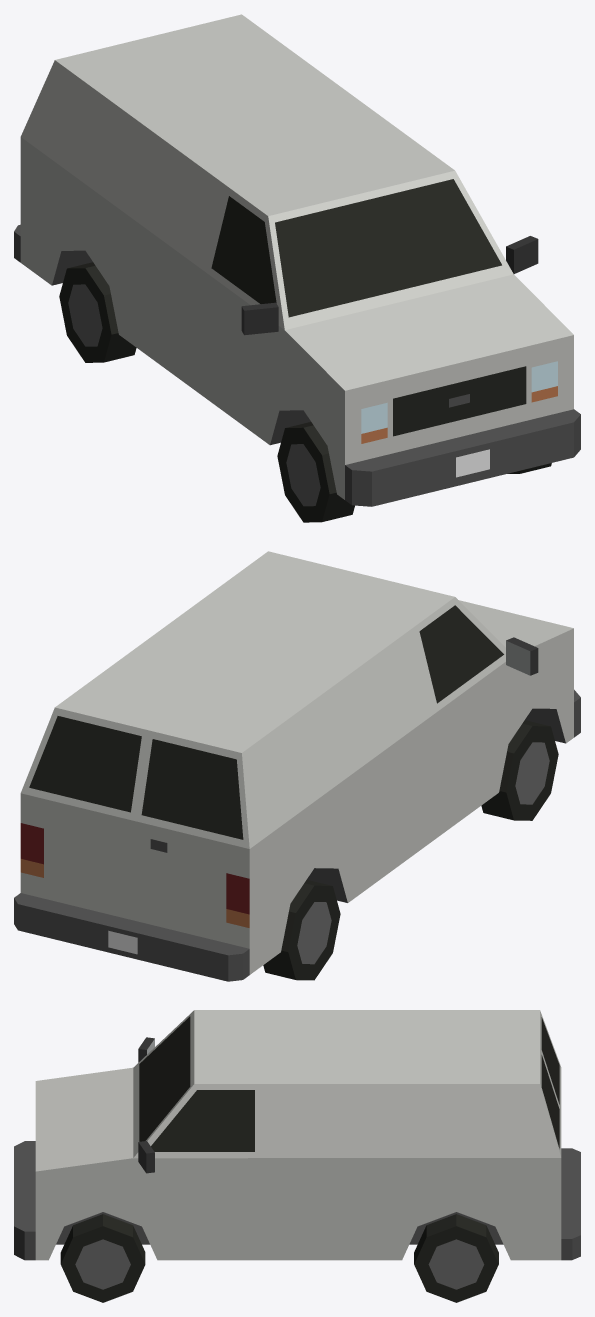
Rendered from Veh_Van_01_White.obj.
The picture shows the model from 3 angles, top to bottom: view 1: azimuth 30°, elevation 25°; view 2: azimuth 150°, elevation 25°; view 3: azimuth 270°, elevation 25°; orthographic projection. The views are drawn at different scales.
Bounding box in the file's own units: 1.38 × 1.16 × 2.84.
